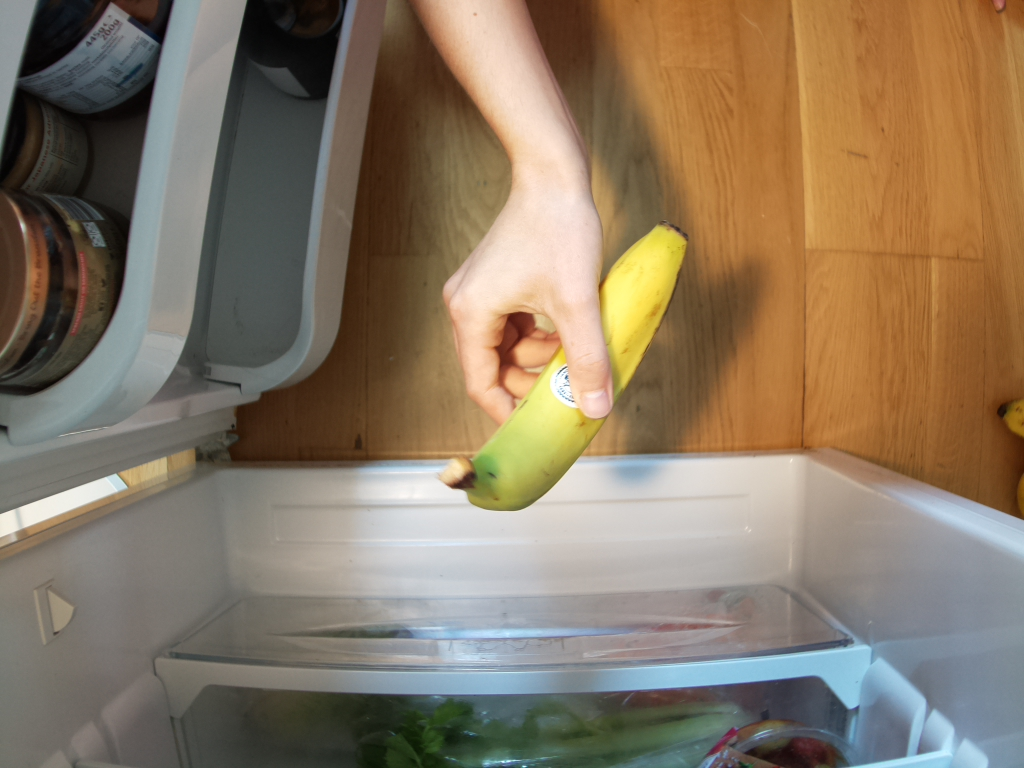banana-unripe: (445, 221, 696, 510)
